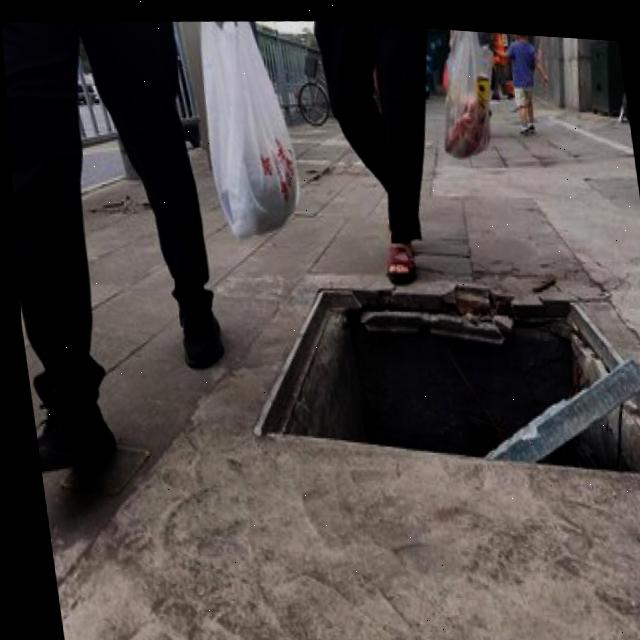manhole: (232, 233, 640, 516)
